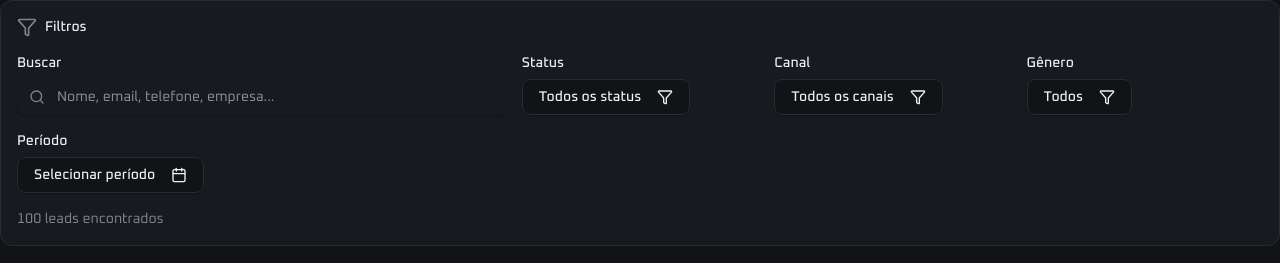
Test: FilterBar › should display marketplace options when marketplace filter is opened
// Click marketplace filter button
Click the button with aria-label "Filtrar por canal". click: (858, 97)
box: [774,79,943,115]
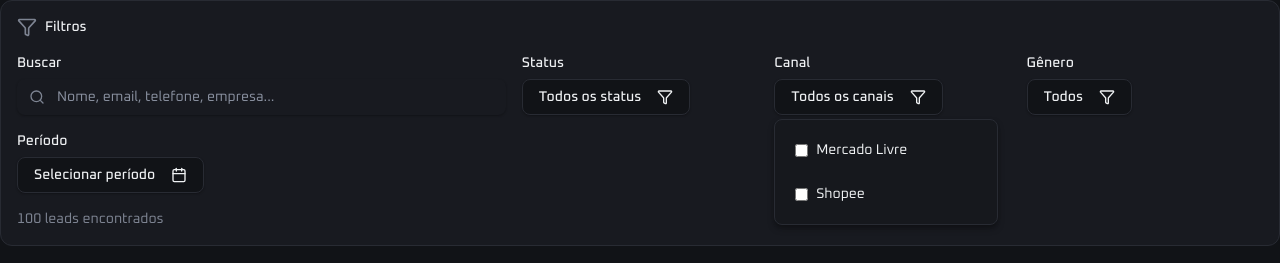
Result: the text "Mercado Livre" is shown at [816,140,907,160]
